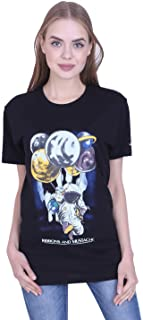tshirt: (1, 81, 132, 283)
